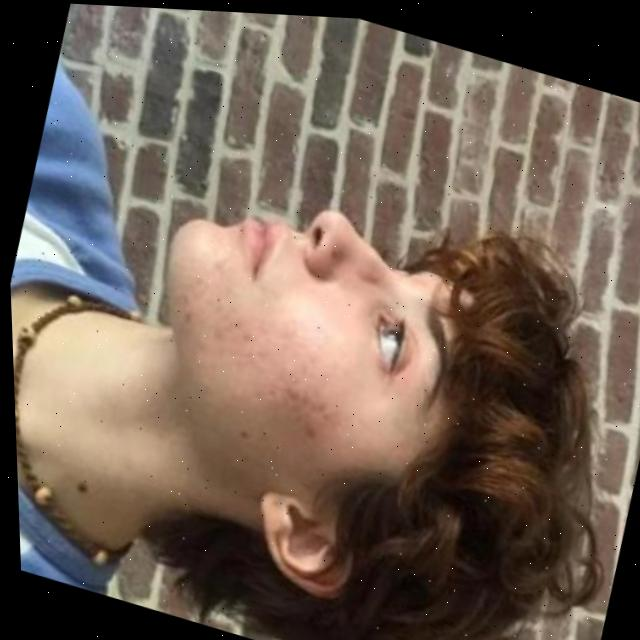Acne: (221, 341, 370, 467)
